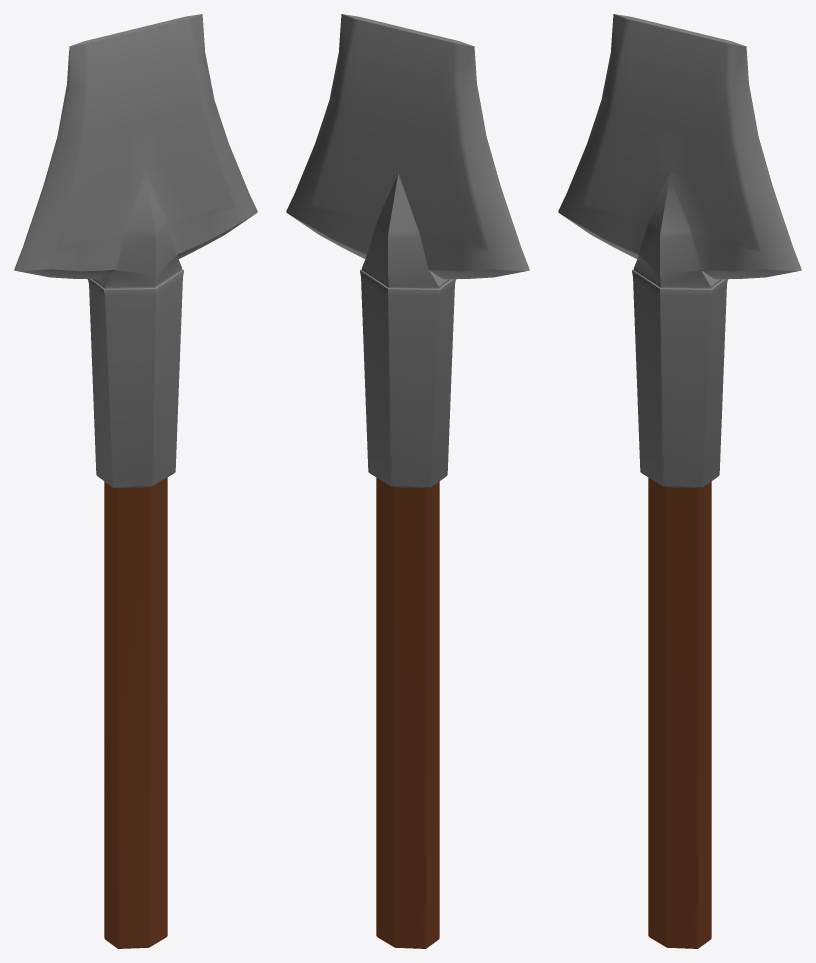
File: shovel.fbx
3 views of the same model, side by side, from view 1: azimuth 30°, elevation 25°; view 2: azimuth 150°, elevation 25°; view 3: azimuth 330°, elevation 25° (orthographic).
Parts seen in each view (by area): view 1: Cylinder.001; view 2: Cylinder.001; view 3: Cylinder.001.
Boxes of the visible parts, bbox=[...] form: Cylinder.001: bbox=[14, 14, 257, 948]; Cylinder.001: bbox=[286, 14, 529, 948]; Cylinder.001: bbox=[558, 14, 801, 948].
Size of the model in its own units: 28.32 by 101 by 8.06.
